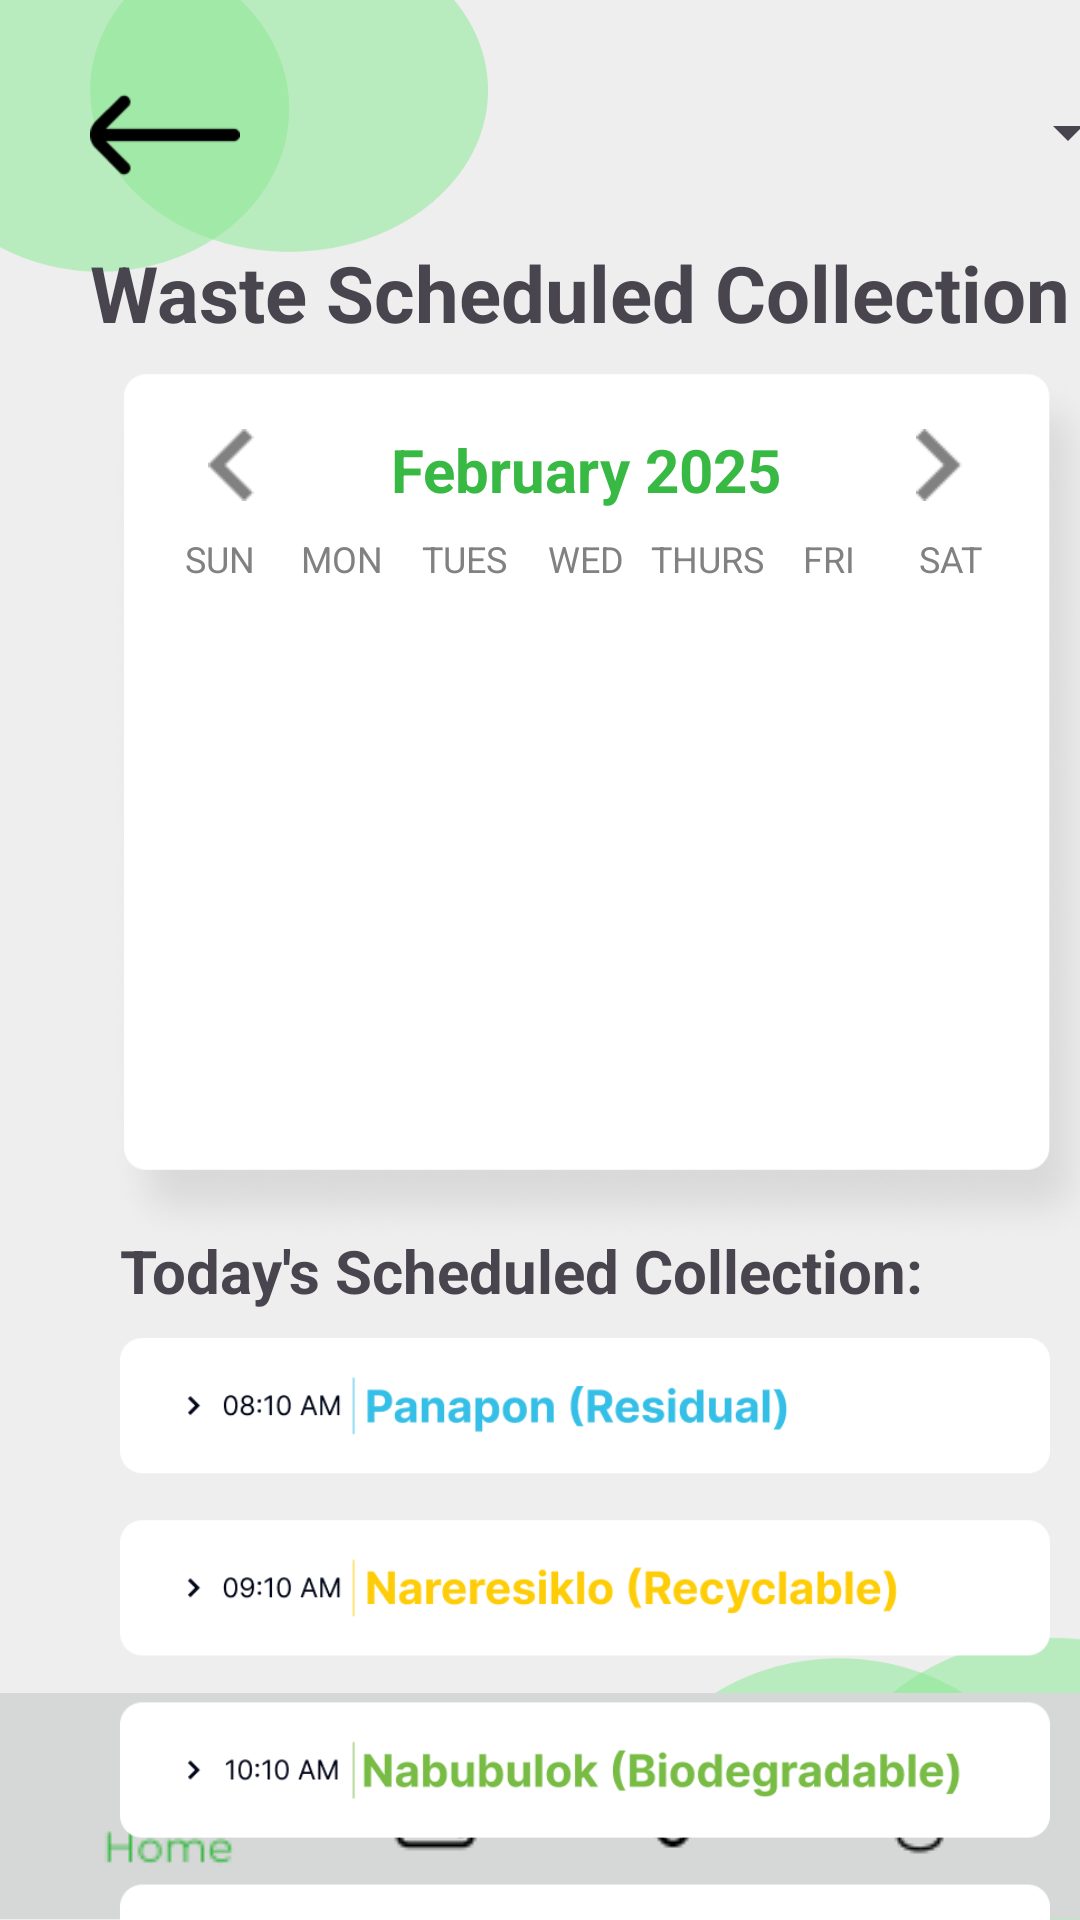

Where icons sit on this 1080×1920 app screen, as (x1, y1, x2, y2):
back arrow: (90, 95, 240, 176)
back calendar: (208, 429, 254, 501)
forward: (916, 429, 960, 501)
